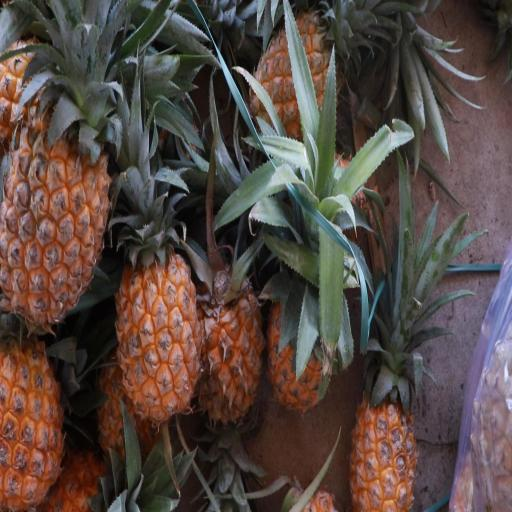Pineapple - v8 v1: (0, 77, 114, 334), (245, 6, 353, 179), (113, 242, 203, 424), (0, 336, 77, 512), (197, 250, 268, 436), (264, 248, 338, 423), (346, 374, 420, 512)
